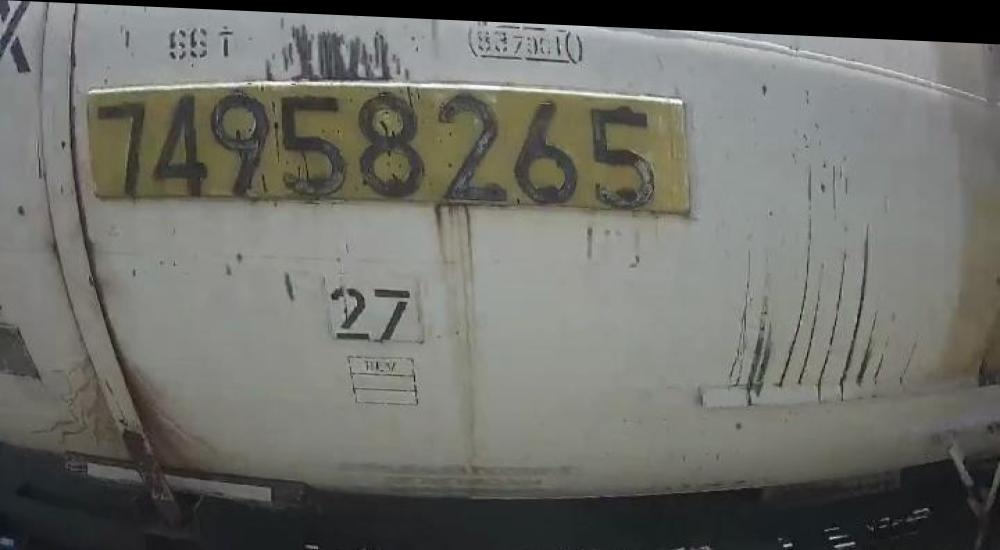Wagon-number: (94, 74, 660, 218)
